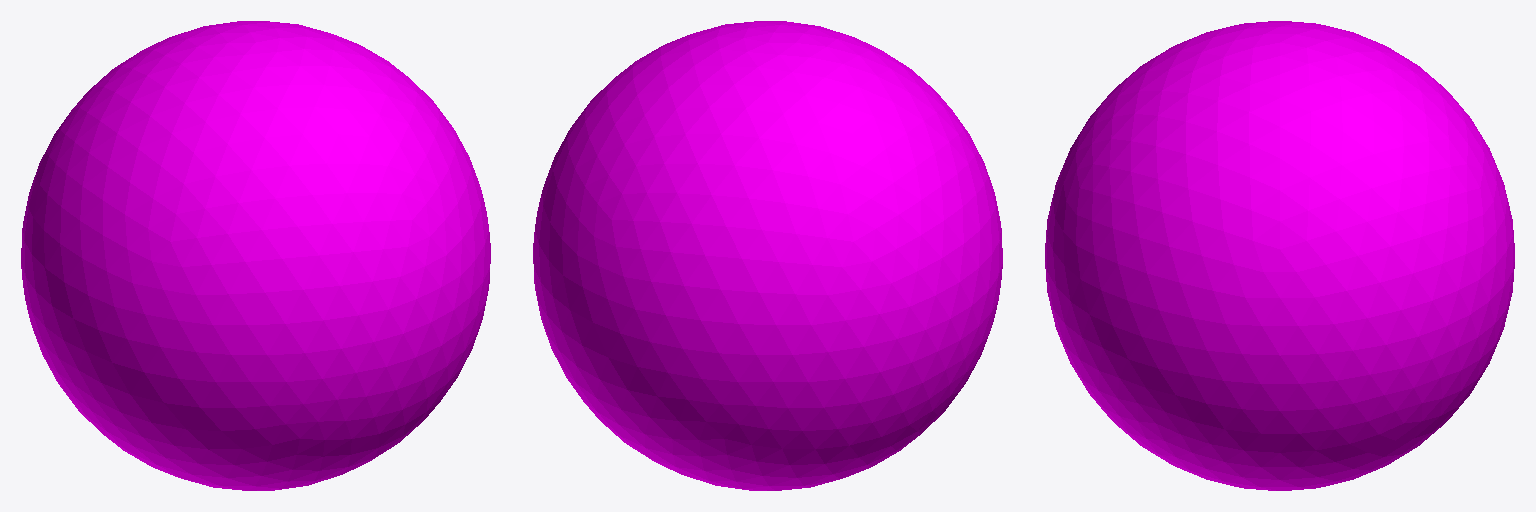
File: 0_2_ball_pink_diffuse.obj
3 renders of one model, left to right at view 1: azimuth 30°, elevation 25°; view 2: azimuth 150°, elevation 25°; view 3: azimuth 270°, elevation 25°, orthographic.
Visible parts, largest first — view 1: Icosphere; view 2: Icosphere; view 3: Icosphere.
Boxes of the visible parts, x1,y1,x2,y2 form: Icosphere: [21, 21, 490, 490]; Icosphere: [533, 21, 1002, 490]; Icosphere: [1045, 21, 1514, 490].
Bounding box in the file's own units: 0.4 × 0.4 × 0.4.